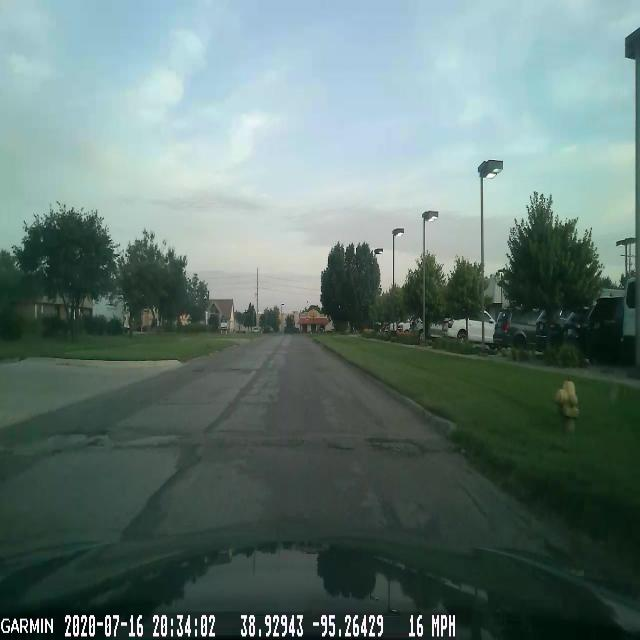Pothole: (365, 430, 427, 470)
